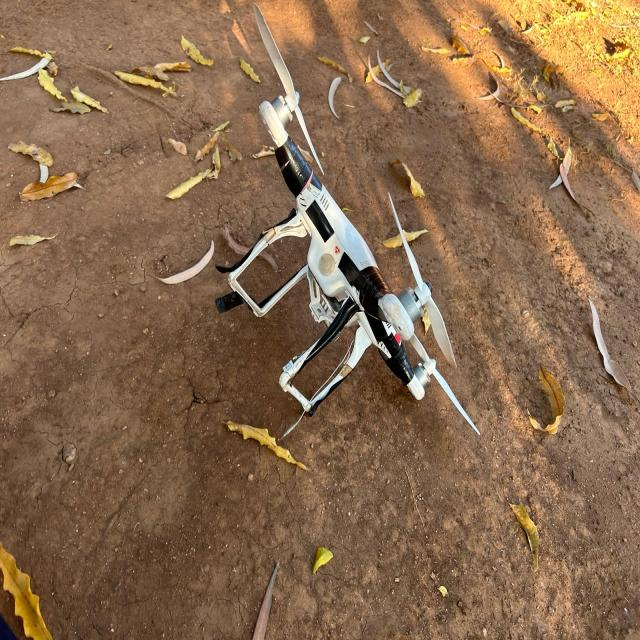drone: (150, 3, 516, 545)
